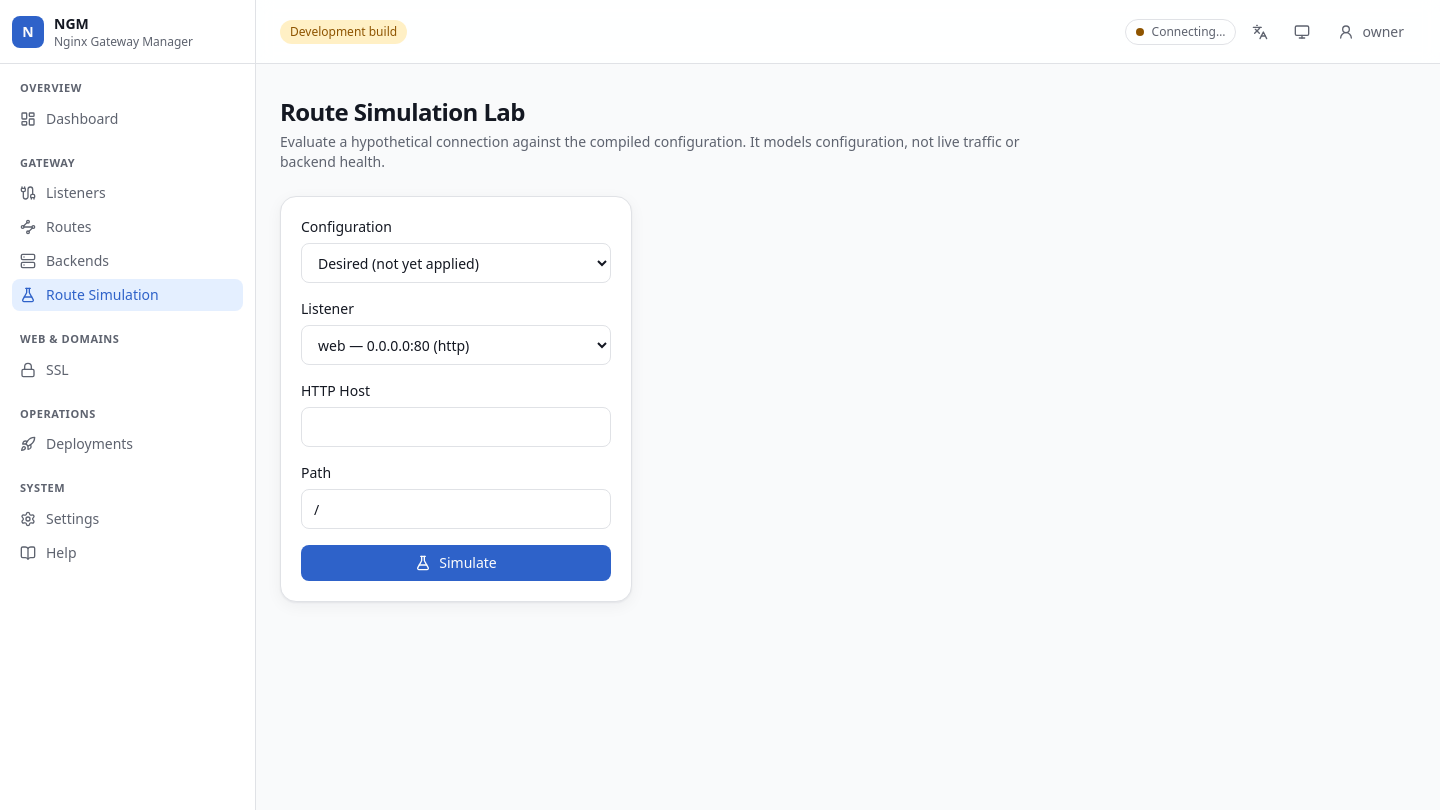
gateway pages › simulation lab shows outcome, trace and limits
What coordinates should you click on to do the following:
click the button "Simulate"
I would click on:
 (456, 563)
Its box is x1=301 y1=545 x2=611 y2=581.
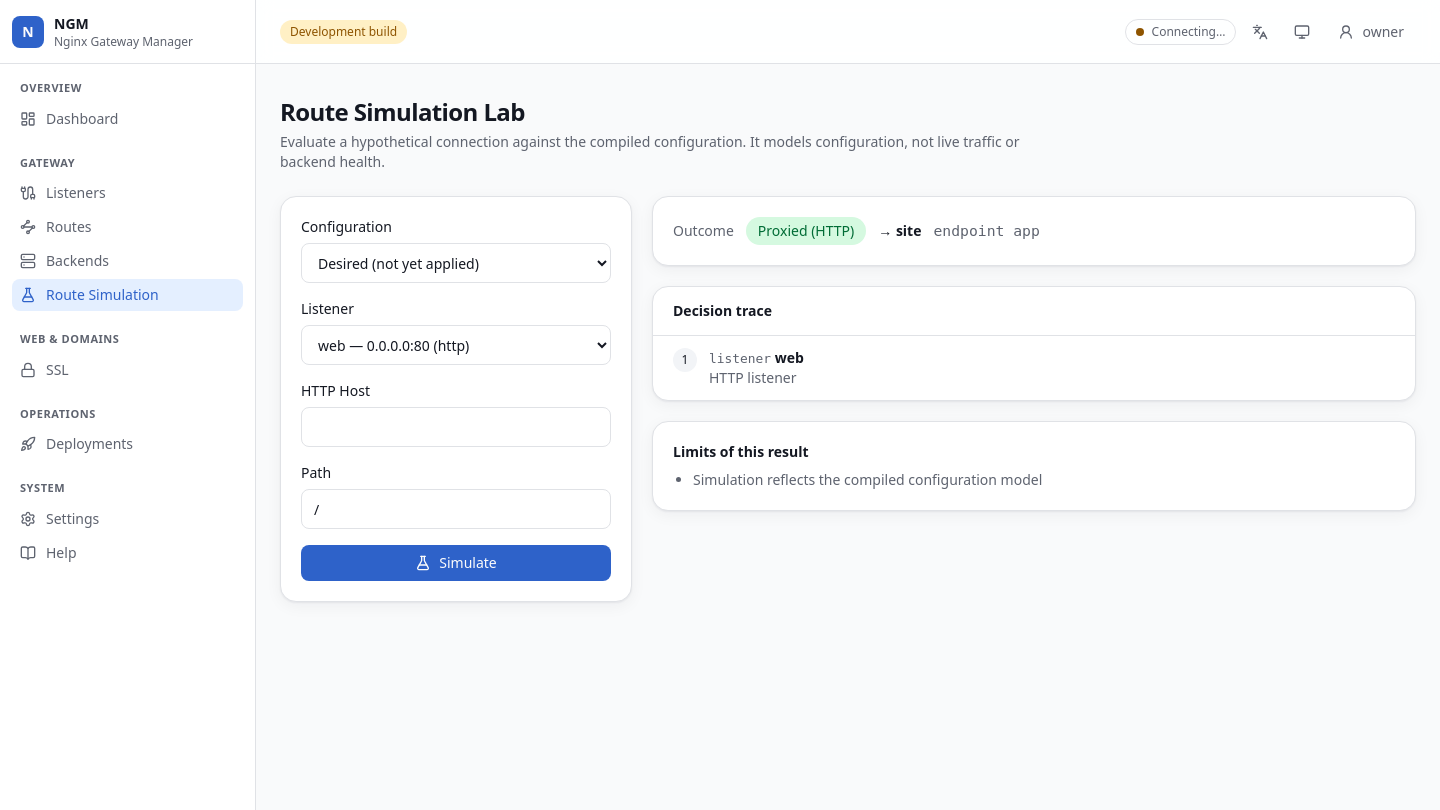
Expected: the text "Proxied (HTTP)" is shown, x1=746 y1=217 x2=866 y2=245
Expected: the list item "Simulation reflects the compiled configuration model" is shown, x1=693 y1=470 x2=1042 y2=489
